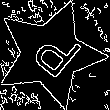P_SW: (19, 23, 82, 85)
